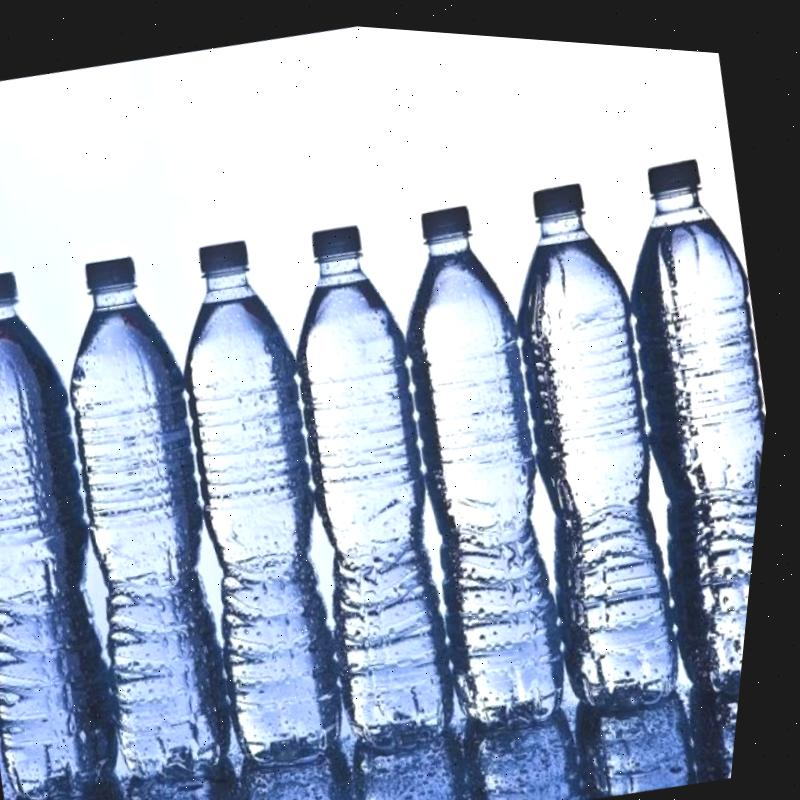botella: (364, 185, 581, 545), (478, 164, 695, 523), (257, 206, 473, 565), (147, 220, 363, 579), (31, 240, 247, 599), (595, 137, 792, 494), (0, 261, 129, 613)
